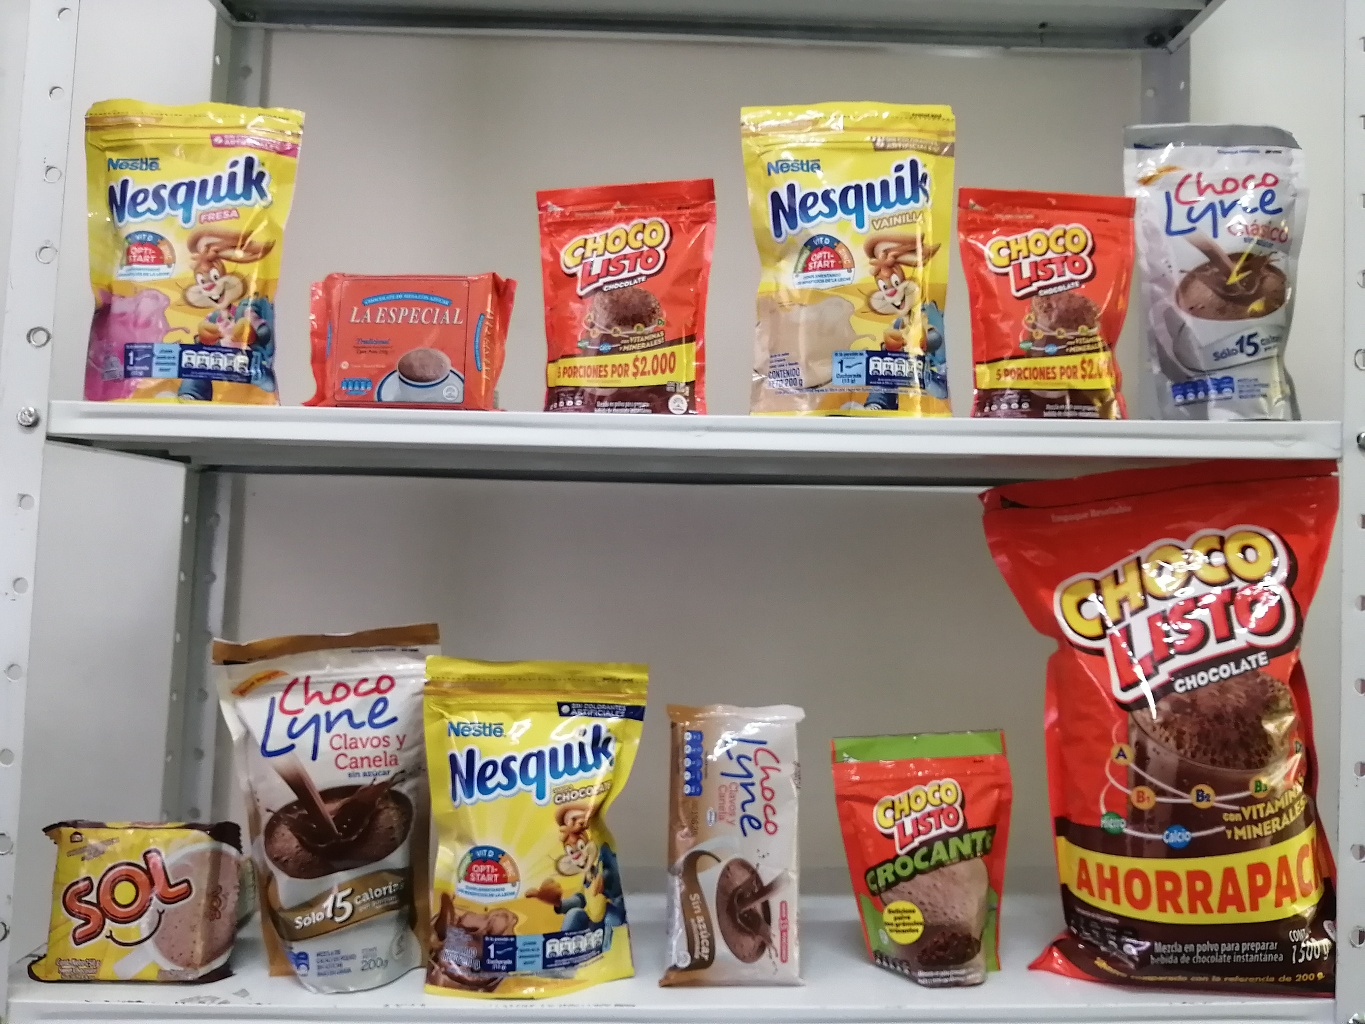COL0170102DYP10000: (816, 720, 1028, 995)
COL0170103DYP1,500: (962, 451, 1353, 1009)
COL0170103DYP10000: (949, 172, 1155, 426)
COL0170303DYP20000: (412, 635, 658, 1006)
COL0170305DYP20000: (66, 70, 305, 412)
COL0170306DYP20000: (728, 80, 984, 419)
